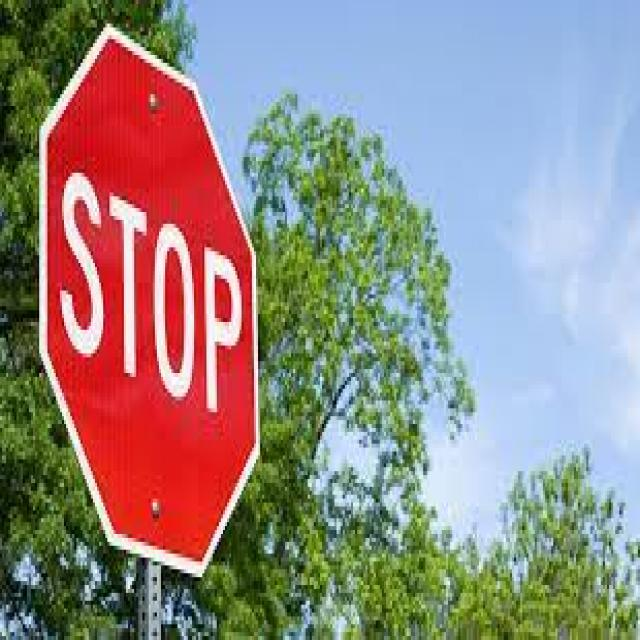stop-sign: (58, 17, 268, 527)
